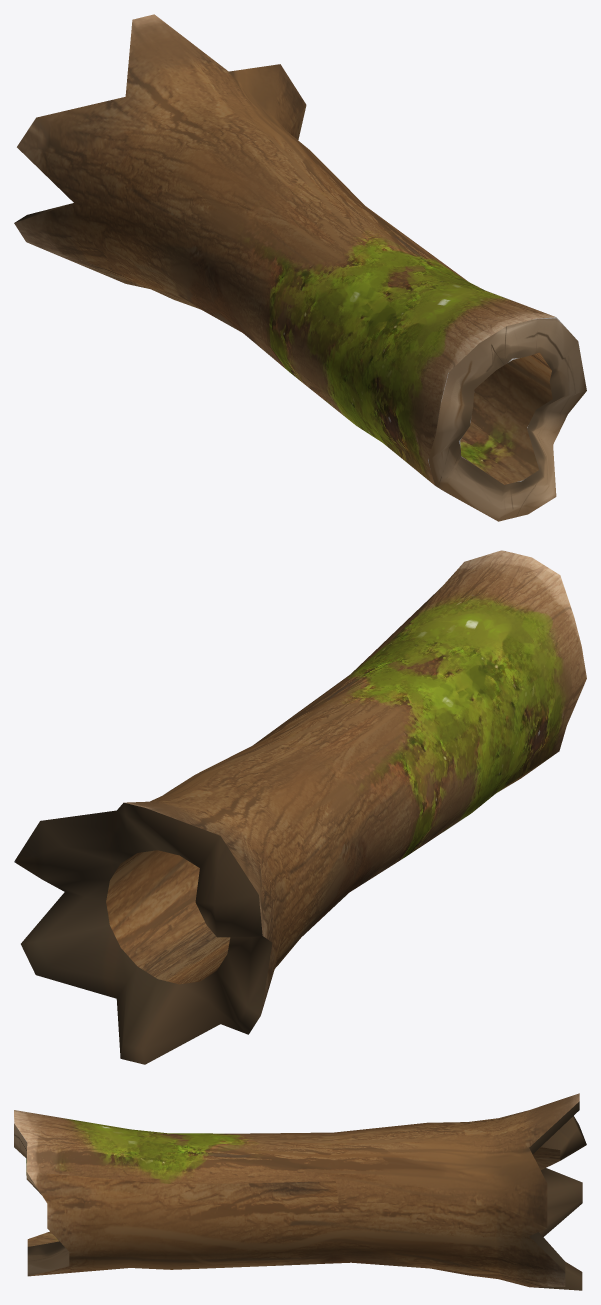
File: 2-1RiverLog.FBX
The picture shows the model from 3 angles, top to bottom: view 1: azimuth 30°, elevation 25°; view 2: azimuth 150°, elevation 25°; view 3: azimuth 270°, elevation 25°; orthographic projection. The views are drawn at different scales.
Visible parts, largest first — view 1: Tube001; view 2: Tube001; view 3: Tube001.
Boxes of the visible parts, left/top/right/bottom form: Tube001: left=14, top=14, right=586, bottom=521; Tube001: left=14, top=550, right=586, bottom=1064; Tube001: left=14, top=1093, right=586, bottom=1290.
Size of the model in its own units: 9.07 by 8.17 by 22.46.
